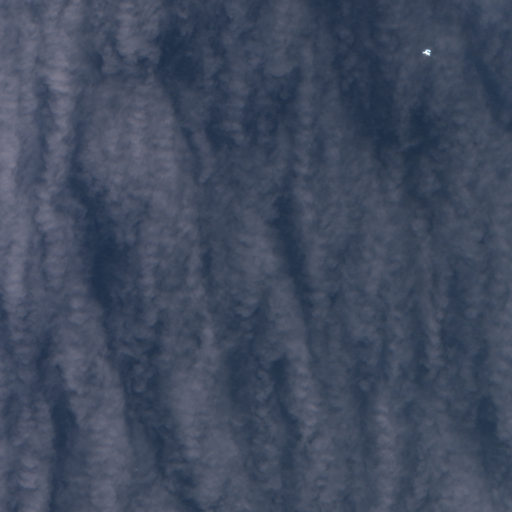Iceberg: (422, 49, 430, 55)
